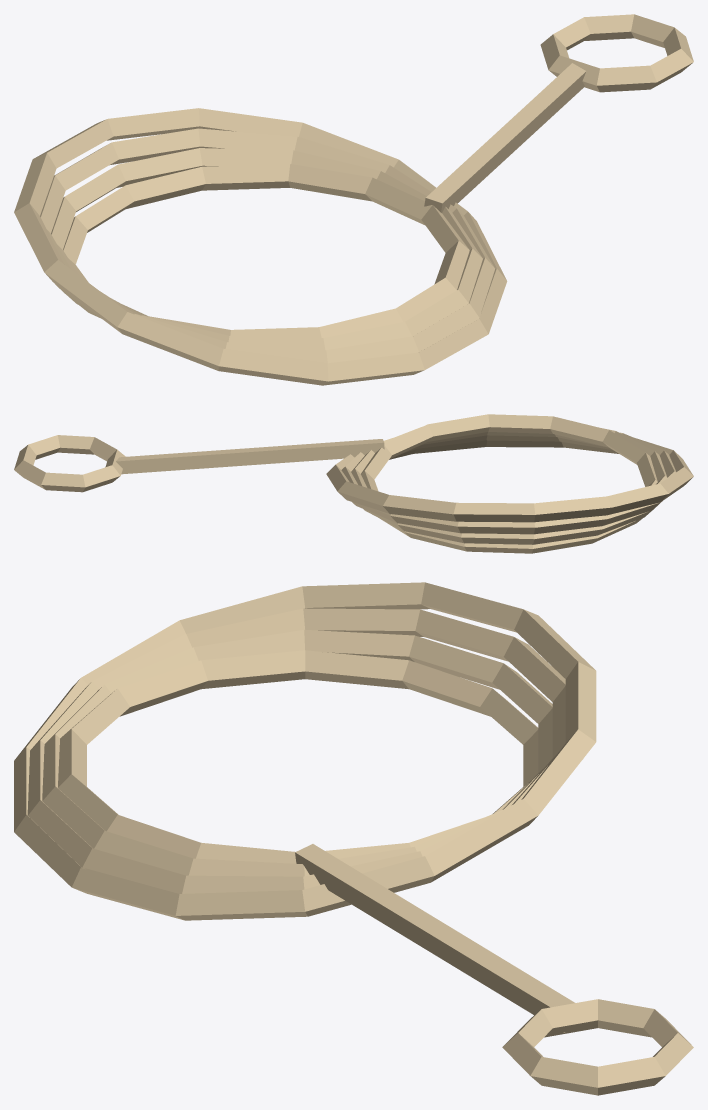
File: SM_Lasso.glb
3 renders of one model, top to bottom at view 1: azimuth 30°, elevation 25°; view 2: azimuth 150°, elevation 25°; view 3: azimuth 270°, elevation 25°, orthographic. The views are drawn at different scales.
Visible parts, largest first — view 1: SM_Lasso; view 2: SM_Lasso; view 3: SM_Lasso.
Boxes of the visible parts, bbox=[...] form: SM_Lasso: bbox=[14, 14, 693, 385]; SM_Lasso: bbox=[14, 414, 693, 553]; SM_Lasso: bbox=[14, 582, 693, 1095].
Size of the model in its own units: 0.7984 by 0.1157 by 0.5107.
